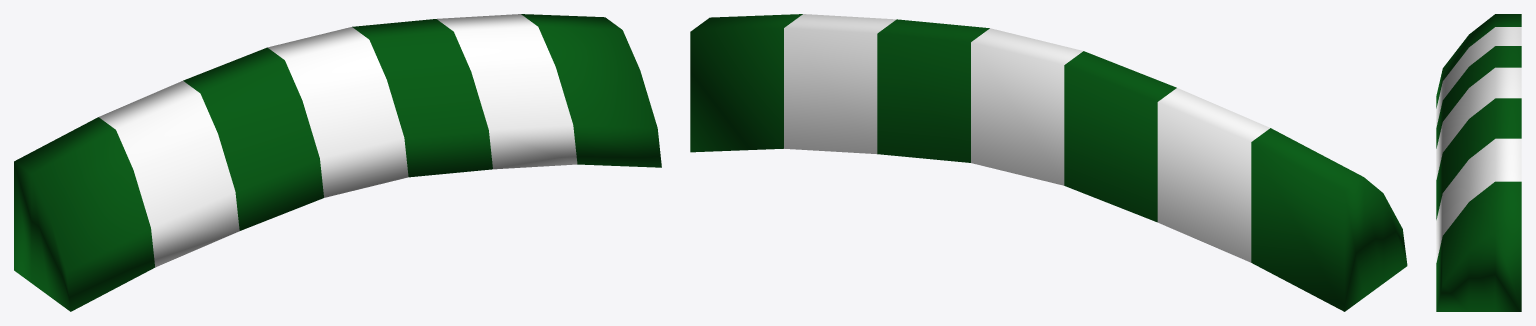
Rendered from FloriculturaLOD2.fbx.
The picture shows the model from 3 angles, left to right: view 1: azimuth 30°, elevation 25°; view 2: azimuth 150°, elevation 25°; view 3: azimuth 270°, elevation 25°; orthographic projection. The views are drawn at different scales.
Parts seen in each view (by area): view 1: Toldo.005; view 2: Toldo.005; view 3: Toldo.005.
Part boxes in pixels (box(x1,y1,x2,y2)): Toldo.005: box(14, 14, 661, 311); Toldo.005: box(690, 14, 1407, 311); Toldo.005: box(1436, 14, 1521, 311).
Size of what is drawn, in the model's own units: 535 by 139 by 88.99.
